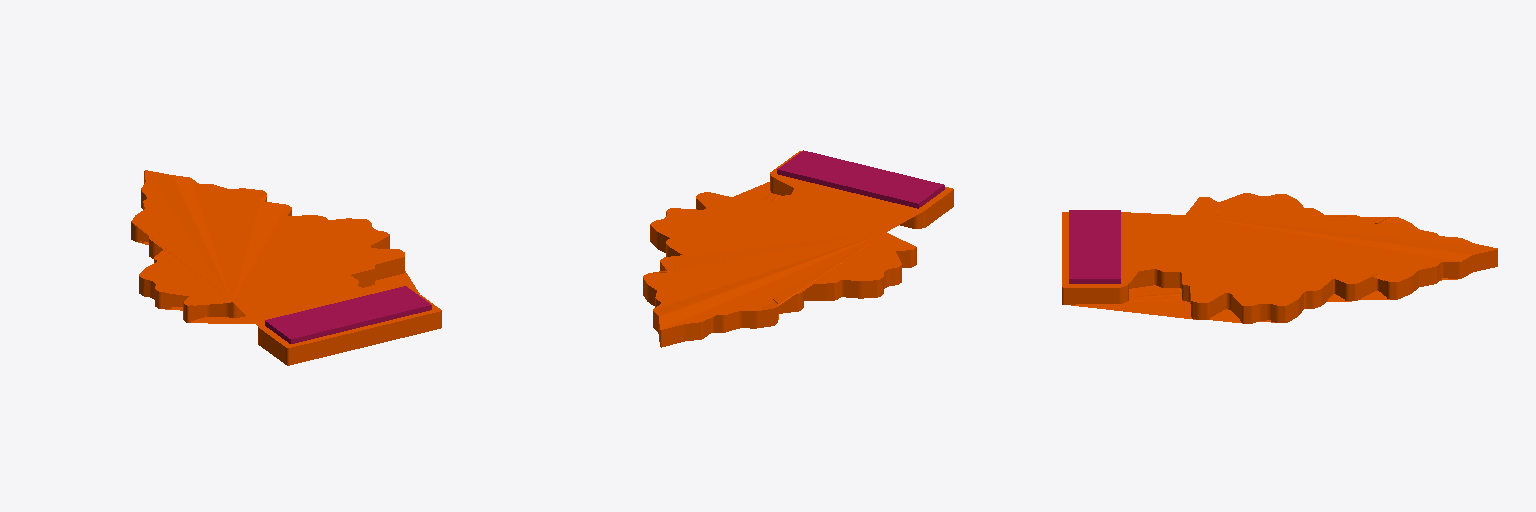
File: freshenerv3.obj
The picture shows the model from 3 angles: view 1: azimuth 30°, elevation 25°; view 2: azimuth 150°, elevation 25°; view 3: azimuth 270°, elevation 25°; orthographic projection.
Parts seen in each view (by area): view 1: Line003, Box001; view 2: Line003, Box001; view 3: Line003, Box001.
Boxes of the visible parts, x1=… form: Line003: x1=131, y1=170, x2=441, y2=365; Box001: x1=265, y1=286, x2=431, y2=343; Line003: x1=643, y1=151, x2=953, y2=347; Box001: x1=777, y1=150, x2=944, y2=208; Line003: x1=1062, y1=193, x2=1497, y2=323; Box001: x1=1069, y1=210, x2=1120, y2=283.
Size of the model in its own units: 1.74 by 0.1613 by 2.84.